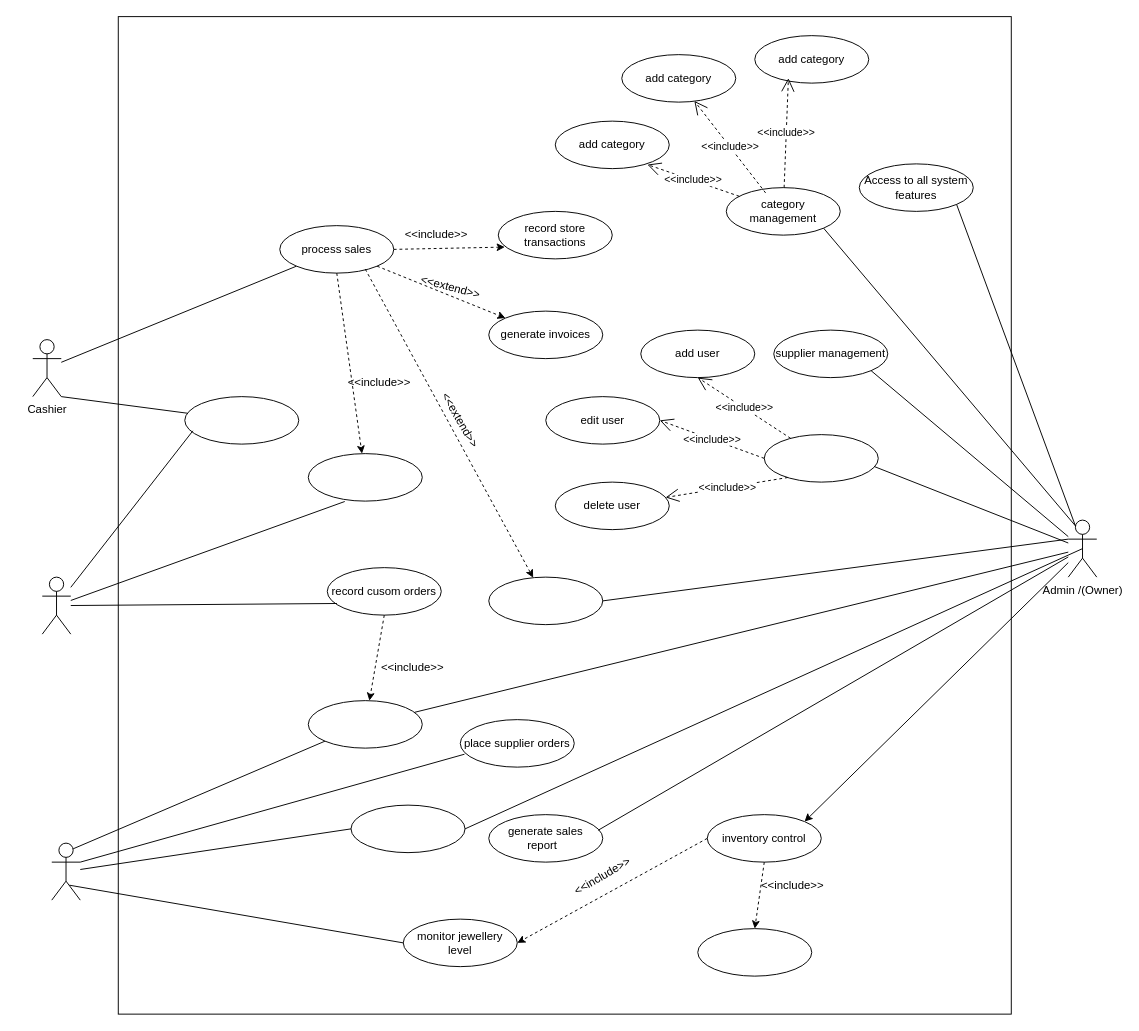
Some shapes in this 1139 by 1031 pixel diagram are drawn without their labels. The shapes that lost their labels are listed below. From the top down, each one's centre as x and y in pixels, then its label:
At (241,420): "view availability".
At (364,477): "view sales summery".
At (820,458): "user management".
At (56,605): "Sales Associate".
At (545,600): "Receive Notifications / Alerts".
At (364,724): "place custom orders".
At (407,828): "Generate Inventory level Report".
At (65,871): "Store manager".
At (754,952): "monitor r aw materials level".
